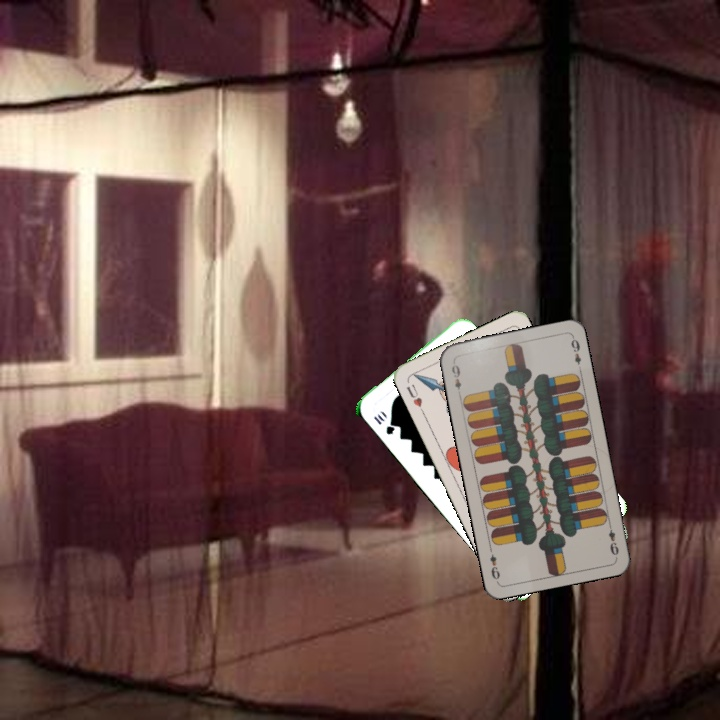E9: (604, 519, 621, 558), (447, 357, 464, 393)
G10: (369, 411, 398, 437)
HU: (402, 380, 427, 416)
